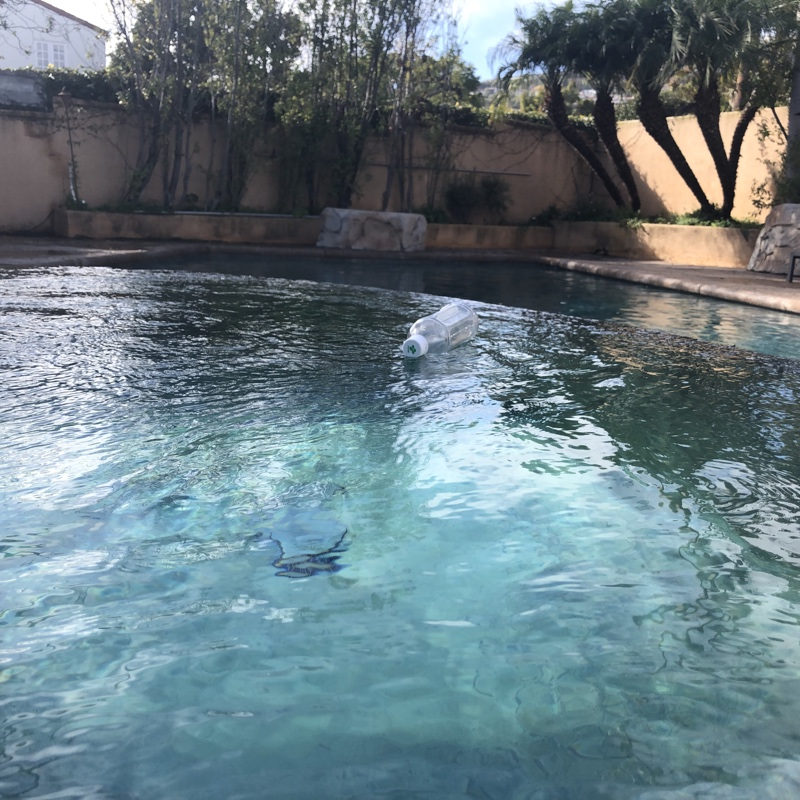Plastic Bottle: (398, 297, 480, 360)
